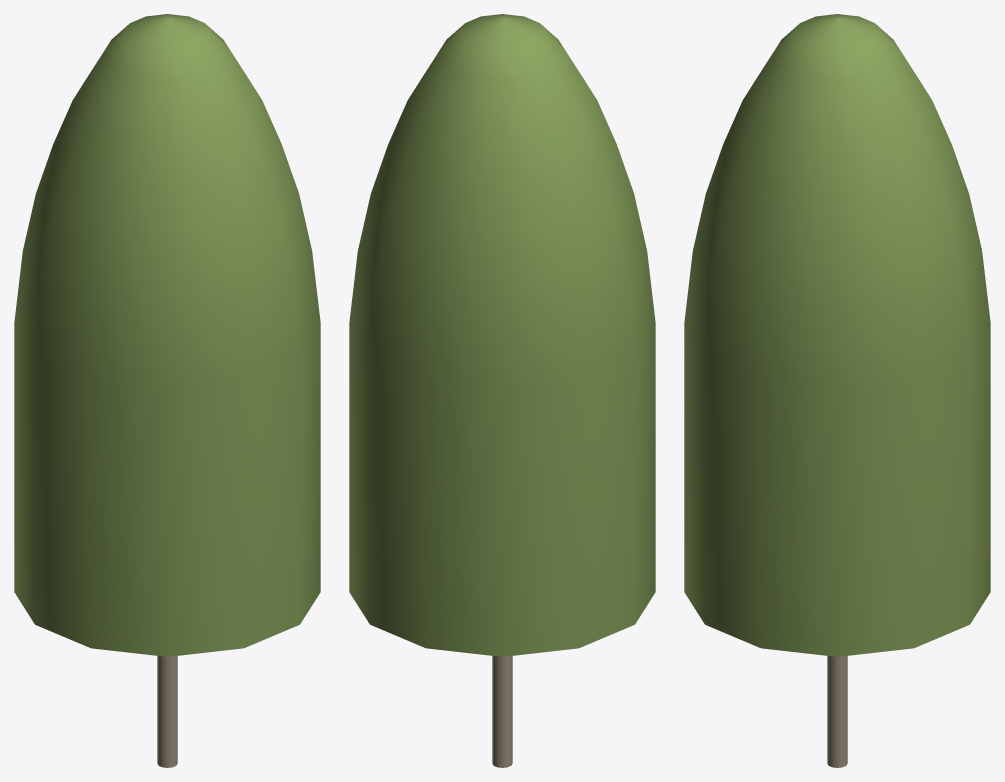
Rendered from Scots_Pine_Analytical_0.obj.
3 renders of one model, left to right at view 1: azimuth 30°, elevation 25°; view 2: azimuth 150°, elevation 25°; view 3: azimuth 270°, elevation 25°, orthographic.
Parts seen in each view (by area): view 1: AnalyticalCrown, AnalyticalTrunk; view 2: AnalyticalCrown, AnalyticalTrunk; view 3: AnalyticalCrown, AnalyticalTrunk.
Part boxes in pixels (left/top/right/bottom): AnalyticalCrown: left=14, top=14, right=320, bottom=656; AnalyticalTrunk: left=157, top=656, right=177, bottom=767; AnalyticalCrown: left=349, top=14, right=655, bottom=656; AnalyticalTrunk: left=492, top=656, right=512, bottom=767; AnalyticalCrown: left=684, top=14, right=990, bottom=656; AnalyticalTrunk: left=827, top=656, right=847, bottom=767.
Bounding box in the file's own units: 11.92 × 32 × 11.92.
